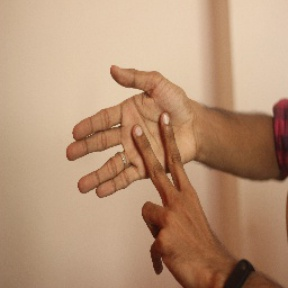N: (63, 61, 207, 248)
